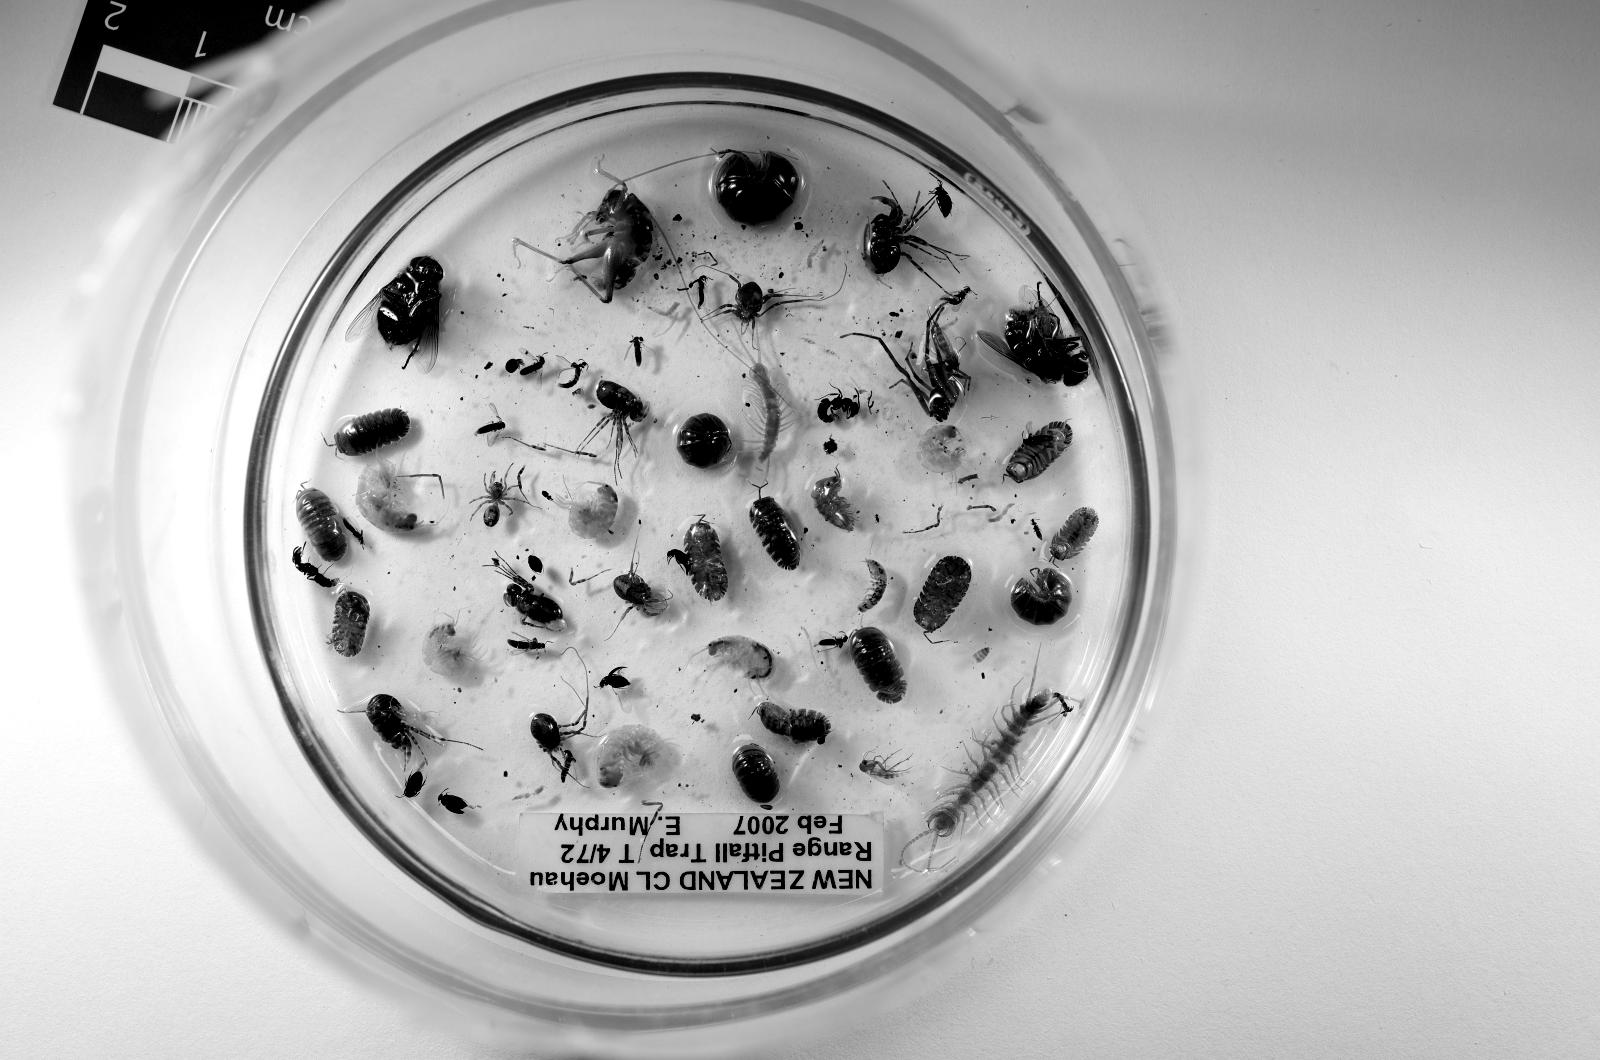acari: (506, 357, 522, 373)
amphipoda: (356, 459, 434, 535), (597, 724, 666, 789), (556, 481, 618, 541), (422, 618, 478, 677), (706, 636, 775, 680), (919, 426, 966, 476)
araneae: (841, 302, 972, 422), (472, 468, 529, 528)
chilopoda: (909, 690, 1069, 870), (744, 357, 793, 476)
coleoptera: (475, 403, 506, 447), (550, 354, 588, 388), (516, 348, 546, 388), (938, 286, 972, 315), (626, 336, 656, 367), (600, 667, 631, 690), (438, 791, 468, 814), (341, 516, 365, 543), (934, 183, 953, 218), (506, 636, 546, 652), (403, 770, 425, 799), (559, 745, 575, 783), (666, 550, 691, 571), (691, 277, 706, 308), (816, 634, 847, 649), (529, 556, 544, 575), (540, 487, 553, 500)
diptera: (346, 254, 443, 373), (978, 283, 1088, 386), (860, 757, 909, 783)
formicidae: (293, 547, 337, 587), (816, 388, 860, 422)
isopoda: (715, 153, 799, 224), (913, 556, 972, 636), (847, 627, 906, 705), (1006, 422, 1071, 481), (297, 487, 346, 562), (685, 518, 728, 602), (335, 409, 409, 457), (750, 497, 799, 568), (1010, 568, 1071, 625), (731, 742, 778, 810), (759, 702, 831, 745), (675, 413, 731, 468), (328, 590, 369, 655), (1050, 506, 1097, 562), (860, 558, 887, 612)
opiliones: (862, 195, 953, 277), (578, 379, 650, 476), (710, 273, 825, 327), (365, 692, 447, 764), (494, 556, 563, 631), (531, 699, 588, 768), (613, 562, 666, 618)
orthoptera: (529, 168, 653, 304)
